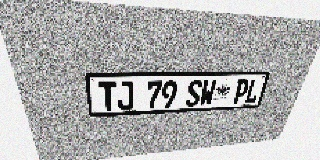7: (146, 81, 162, 109)
9: (161, 80, 178, 108)
J: (117, 81, 134, 110)
L: (244, 79, 263, 104)
P: (232, 79, 251, 104)
S: (185, 80, 203, 107)
T: (98, 81, 117, 111)
W: (199, 80, 217, 106)
